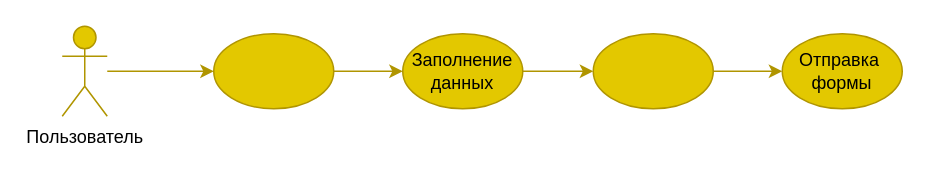
This 929x174 diagram has some shape labels left out. Each missing label, with the box of its shape:
Выбор столика: (592, 32, 713, 109)
Основной экран: (212, 32, 334, 109)
